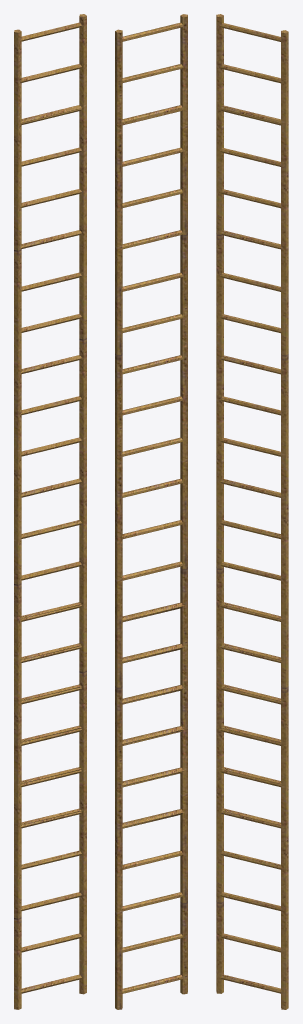
File: Ladder.fbx
The picture shows the model from 3 angles, left to right: view 1: azimuth 30°, elevation 25°; view 2: azimuth 210°, elevation 25°; view 3: azimuth 330°, elevation 25°; orthographic projection.
Visible parts, largest first — view 1: 01zebrik; view 2: 01zebrik; view 3: 01zebrik.
Part boxes in pixels (x1,y1,x2,y2): 01zebrik: [14, 14, 86, 1009]; 01zebrik: [115, 14, 187, 1009]; 01zebrik: [216, 14, 288, 1009].
Size of the model in its own units: 44.69 by 585 by 4.54.
